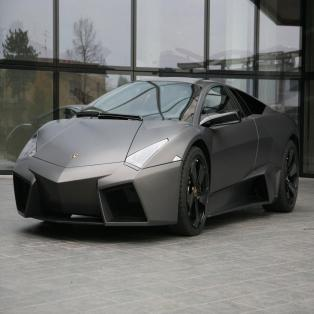Auto: (13, 76, 304, 236)
